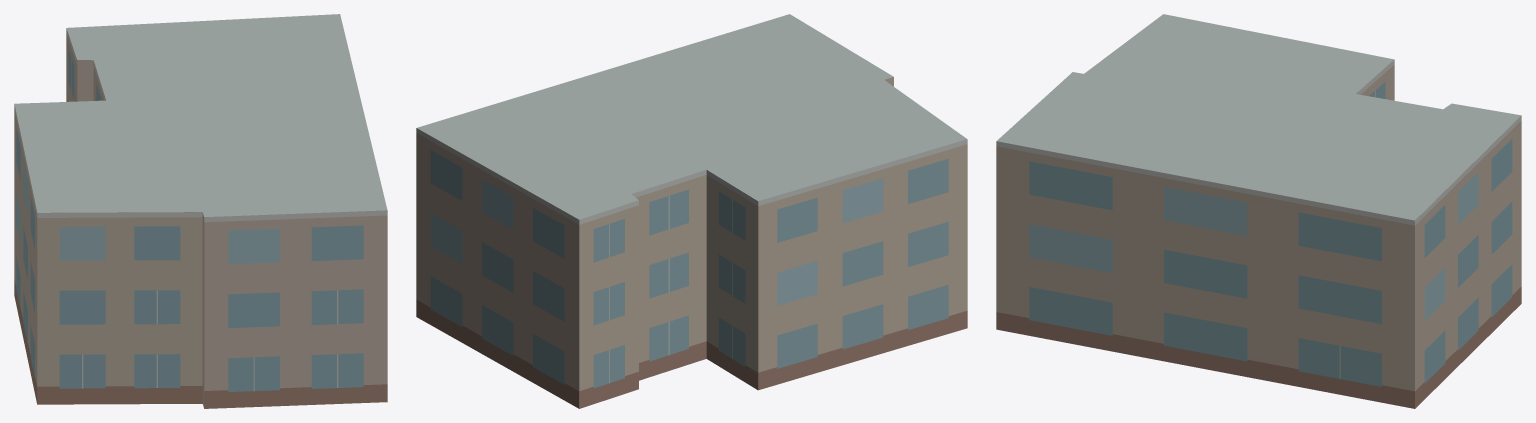
File: survey-upis-32956267.glb
3 renders of one model, left to right at view 1: azimuth 30°, elevation 25°; view 2: azimuth 150°, elevation 25°; view 3: azimuth 270°, elevation 25°, orthographic.
Visible parts, largest first — view 1: survey-upis-32956267.tmp; view 2: survey-upis-32956267.tmp; view 3: survey-upis-32956267.tmp.
Part boxes in pixels (bbox=[...]): survey-upis-32956267.tmp: bbox=[14, 14, 387, 408]; survey-upis-32956267.tmp: bbox=[416, 14, 967, 408]; survey-upis-32956267.tmp: bbox=[996, 14, 1521, 408].
Bounding box in the file's own units: 21.53 × 9.15 × 23.13.
